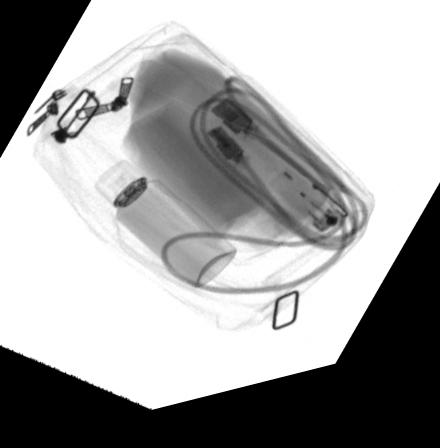Lighter: (267, 182, 344, 253)
Sprayer: (93, 165, 237, 299)
